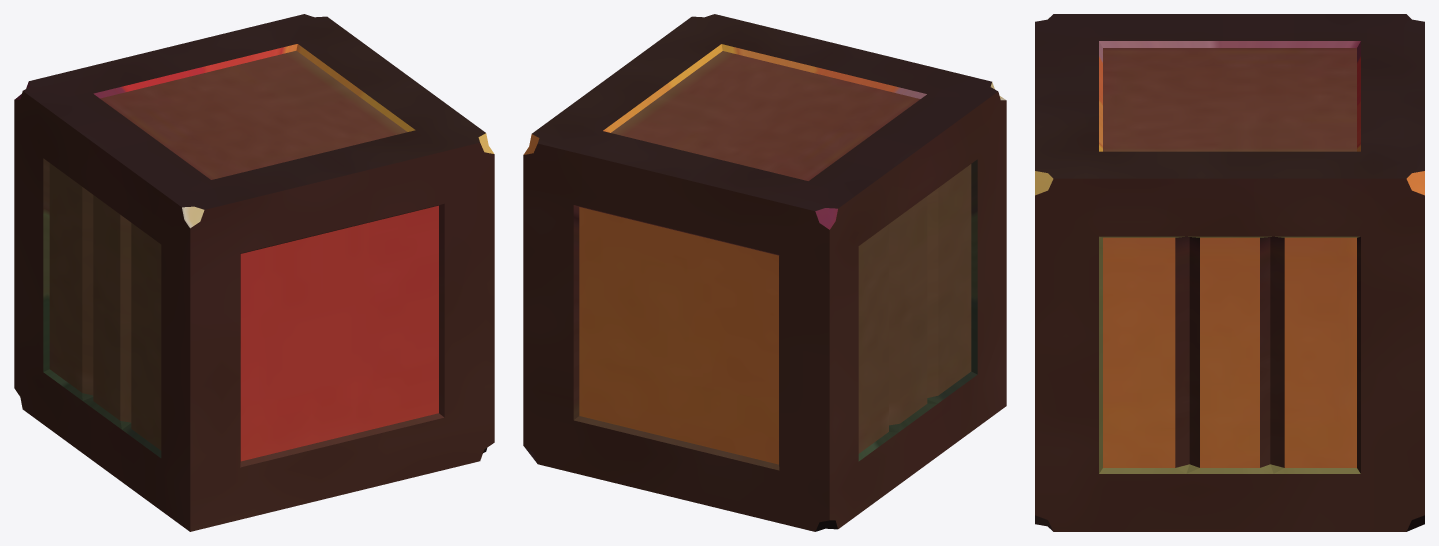
3 renders of one model, left to right at view 1: azimuth 30°, elevation 25°; view 2: azimuth 150°, elevation 25°; view 3: azimuth 270°, elevation 25°, orthographic. The views are drawn at different scales.
Visible parts, largest first — view 1: Cubo.002_Cubo.001; view 2: Cubo.002_Cubo.001; view 3: Cubo.002_Cubo.001.
Boxes of the visible parts, bbox=[...] form: Cubo.002_Cubo.001: bbox=[14, 14, 494, 531]; Cubo.002_Cubo.001: bbox=[523, 14, 1006, 531]; Cubo.002_Cubo.001: bbox=[1035, 14, 1424, 531].
Size of the model in its own units: 1 by 1 by 1.
Materials: 1 (1 with a texture image).
